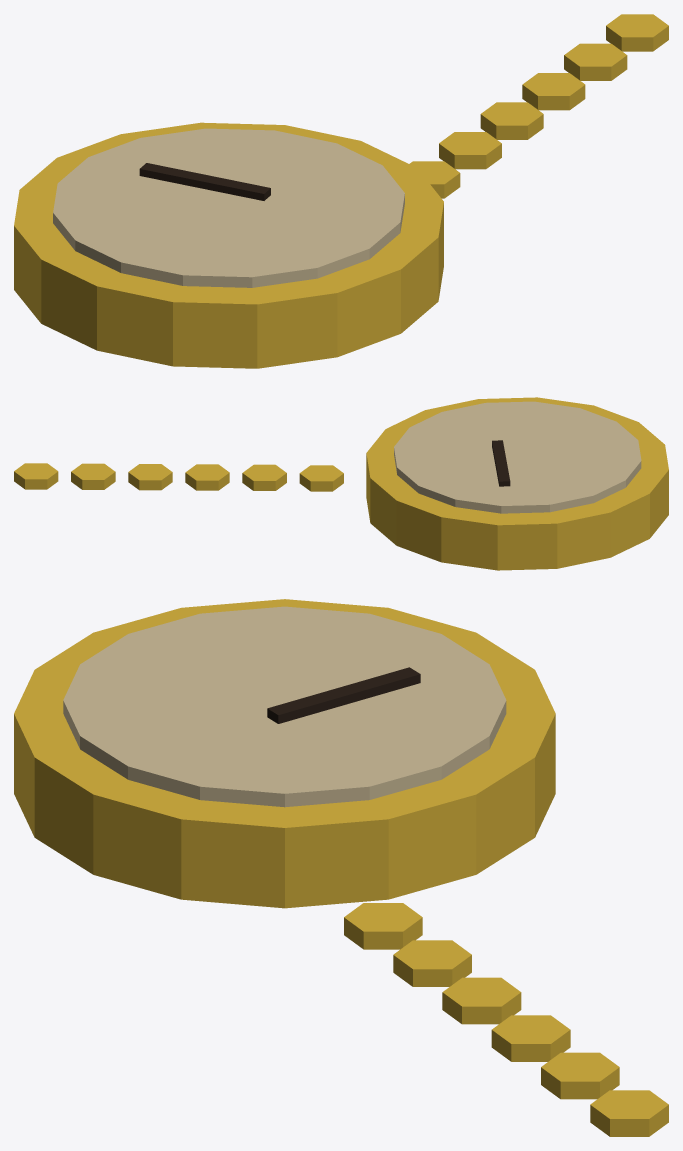
File: TownFind_hotel.glb
The picture shows the model from 3 angles, top to bottom: view 1: azimuth 30°, elevation 25°; view 2: azimuth 150°, elevation 25°; view 3: azimuth 270°, elevation 25°; orthographic projection. The views are drawn at different scales.
Visible parts, largest first — view 1: TownFind_hotel.001; view 2: TownFind_hotel.001; view 3: TownFind_hotel.001.
Part boxes in pixels (bbox=[...]): TownFind_hotel.001: bbox=[14, 14, 668, 368]; TownFind_hotel.001: bbox=[14, 397, 668, 570]; TownFind_hotel.001: bbox=[14, 599, 668, 1136].
Size of the model in its own units: 0.2219 by 0.023 by 0.133.
